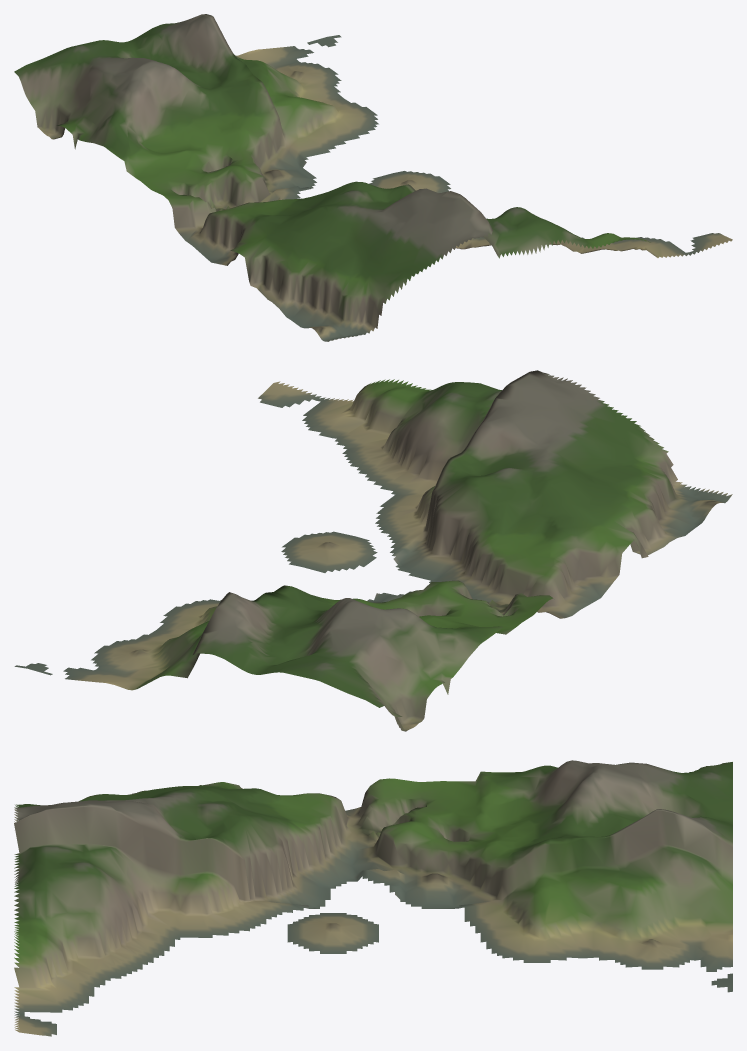
The model's file is coast_tile_x1z1_lod1.glb.
3 views of the same model, one above another, from view 1: azimuth 30°, elevation 25°; view 2: azimuth 150°, elevation 25°; view 3: azimuth 270°, elevation 25° (orthographic). The views are drawn at different scales.
Parts seen in each view (by area): view 1: coast_tile_x1z1_lod1; view 2: coast_tile_x1z1_lod1; view 3: coast_tile_x1z1_lod1.
Part boxes in pixels (<box>): coast_tile_x1z1_lod1: <box>14,14,732,341</box>; coast_tile_x1z1_lod1: <box>14,370,732,731</box>; coast_tile_x1z1_lod1: <box>14,760,732,1036</box>.
Size of the model in its own units: 602 by 125 by 804.
